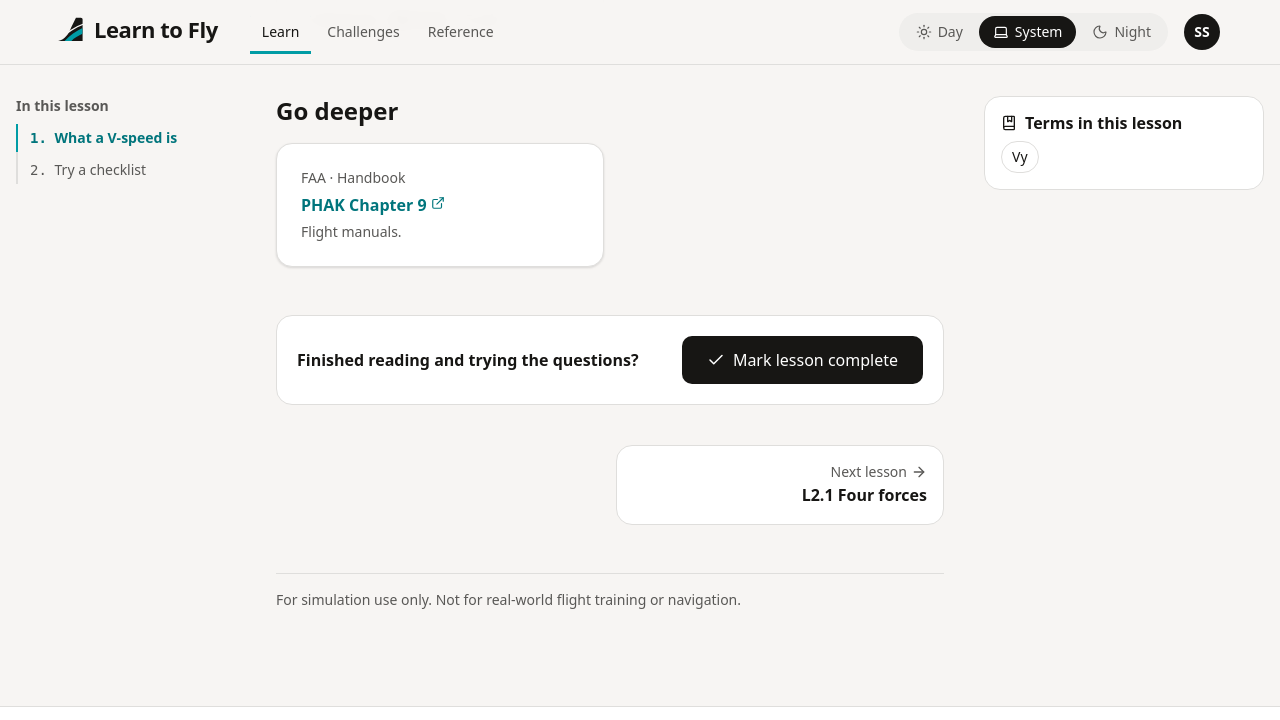
Test: lesson progress (step 8.7) › rolls back and says so when saving fails
The width and height of the screenshot is (1280, 720).
(page scrolled)
Step 1. Click the button "Mark lesson complete" → (802, 360), box left=682, top=336, right=923, bottom=384
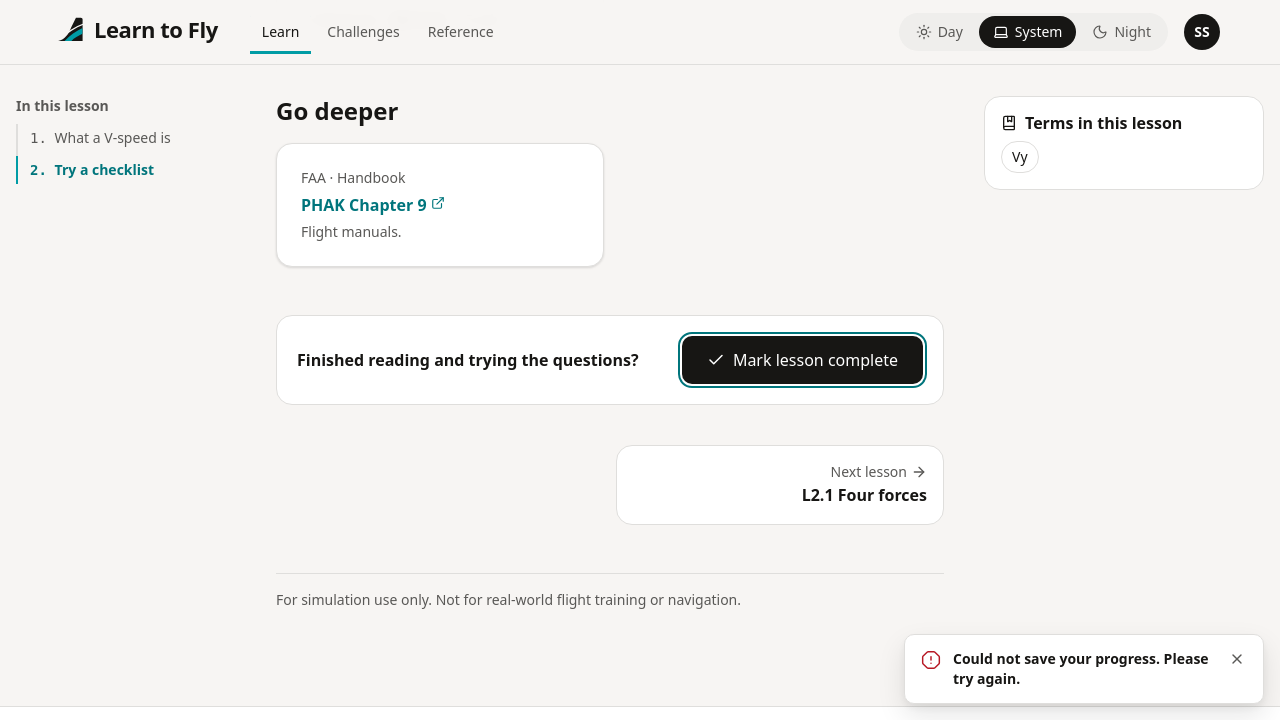
expect the text "Could not save your progress. Please try again." is shown: met, box left=953, top=649, right=1215, bottom=689
